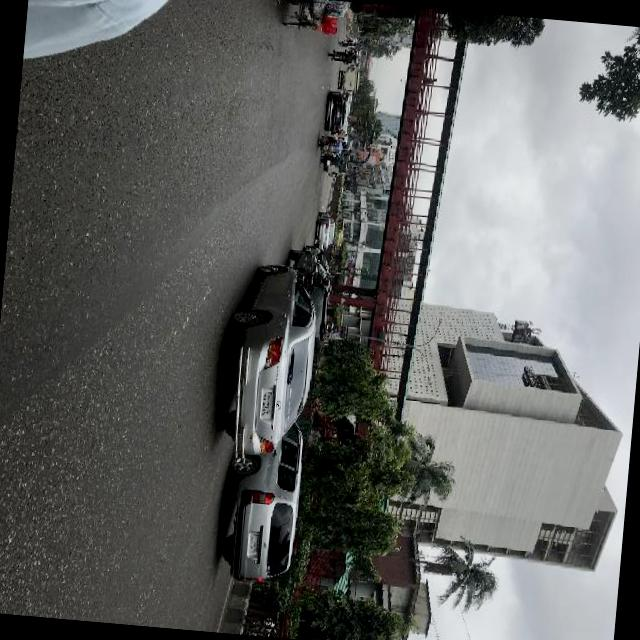car: (218, 258, 322, 467), (218, 458, 302, 582), (322, 86, 349, 132), (313, 208, 337, 250), (343, 90, 352, 100)
motorcycle: (316, 131, 334, 150), (318, 150, 334, 167), (348, 47, 358, 54)
truck: (337, 67, 360, 91)
